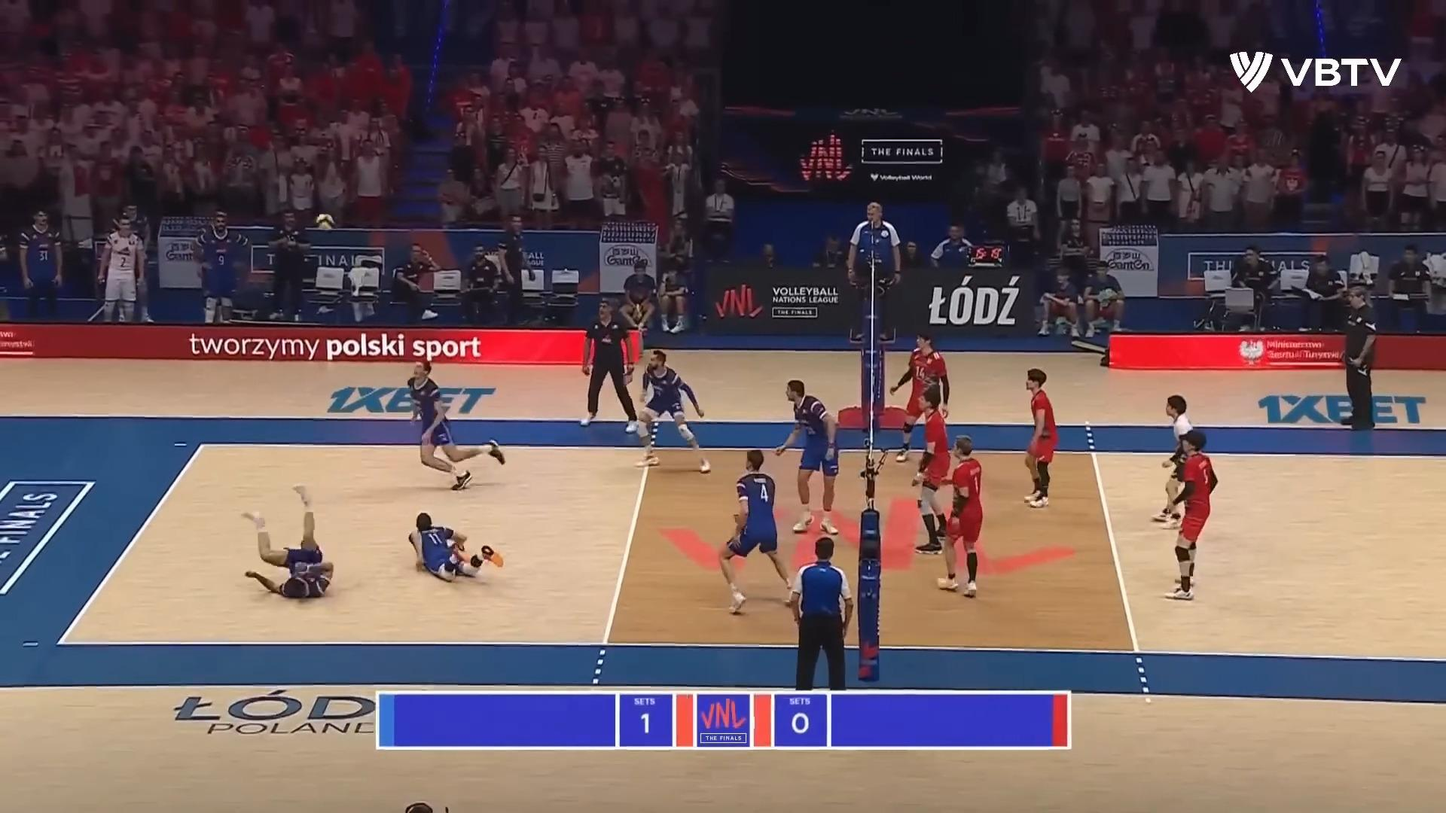ball: (315, 212, 335, 232)
